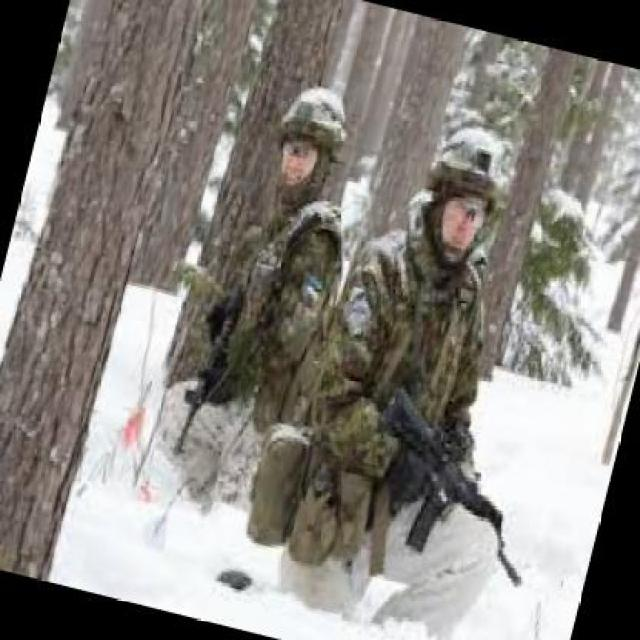MIL_Pax: (268, 104, 602, 638), (178, 74, 388, 466)
